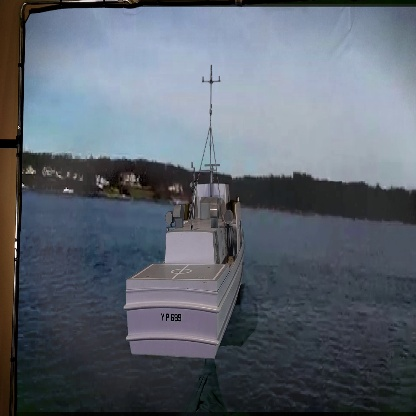YP689: (124, 63, 245, 363)
